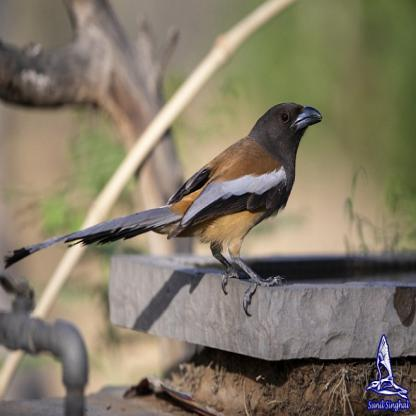Burung: (2, 101, 322, 317)
